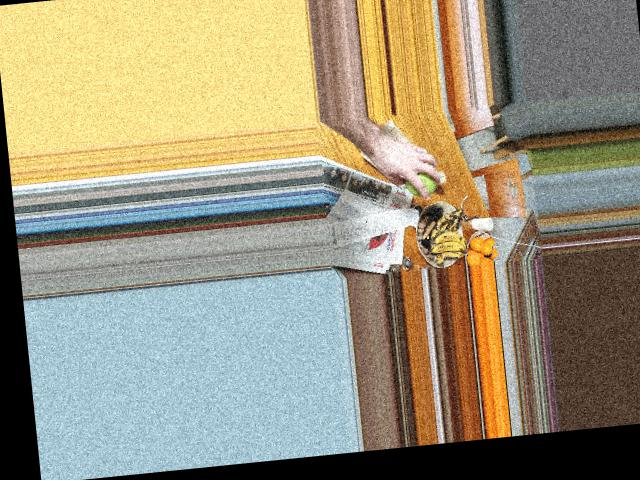apple: (401, 161, 439, 197)
